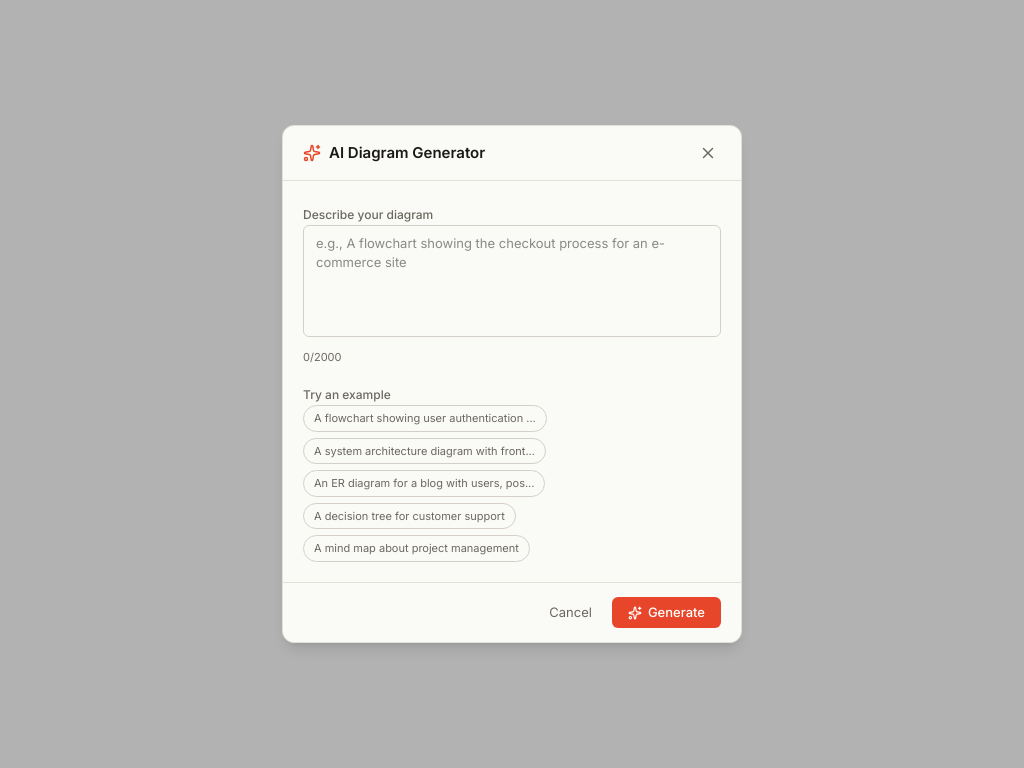
Test case: AIGenerateModal chrome › fills the prompt from an example and clears the previous error
This screenshot has width=1024, height=768.
Replace the text in the text box labelled "Describe your diagram" with "A simple architecture diagram" at (512, 281), box [303, 225, 721, 337]
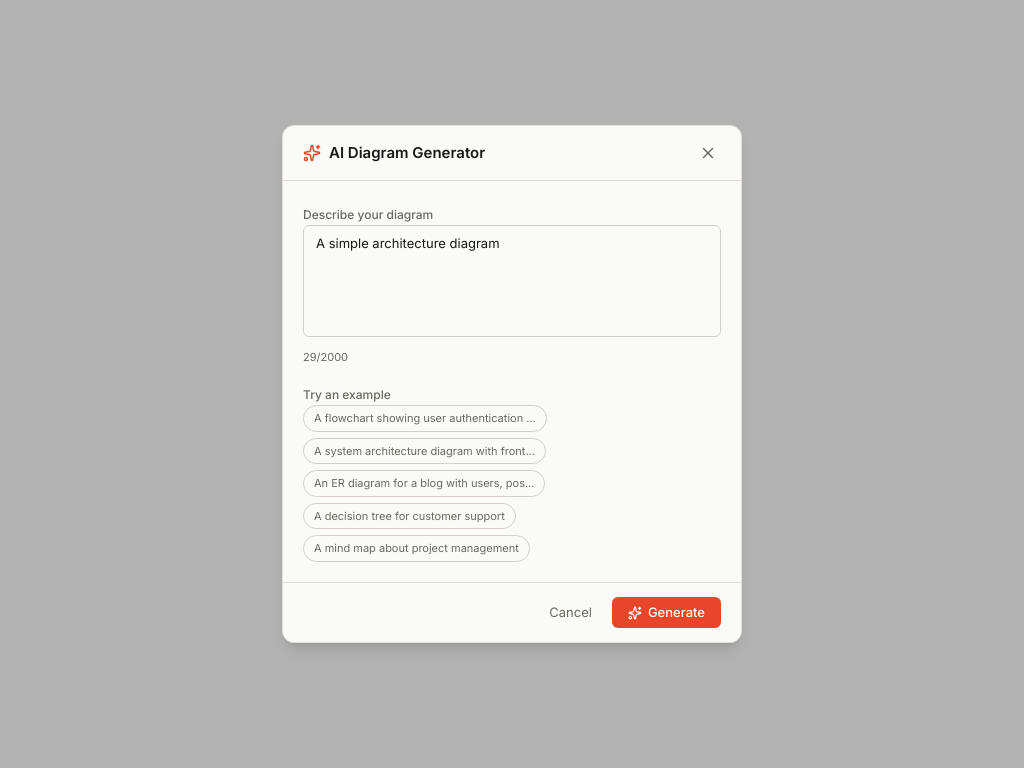
Click the button "Generate".
click(666, 613)  # box [612, 597, 721, 628]
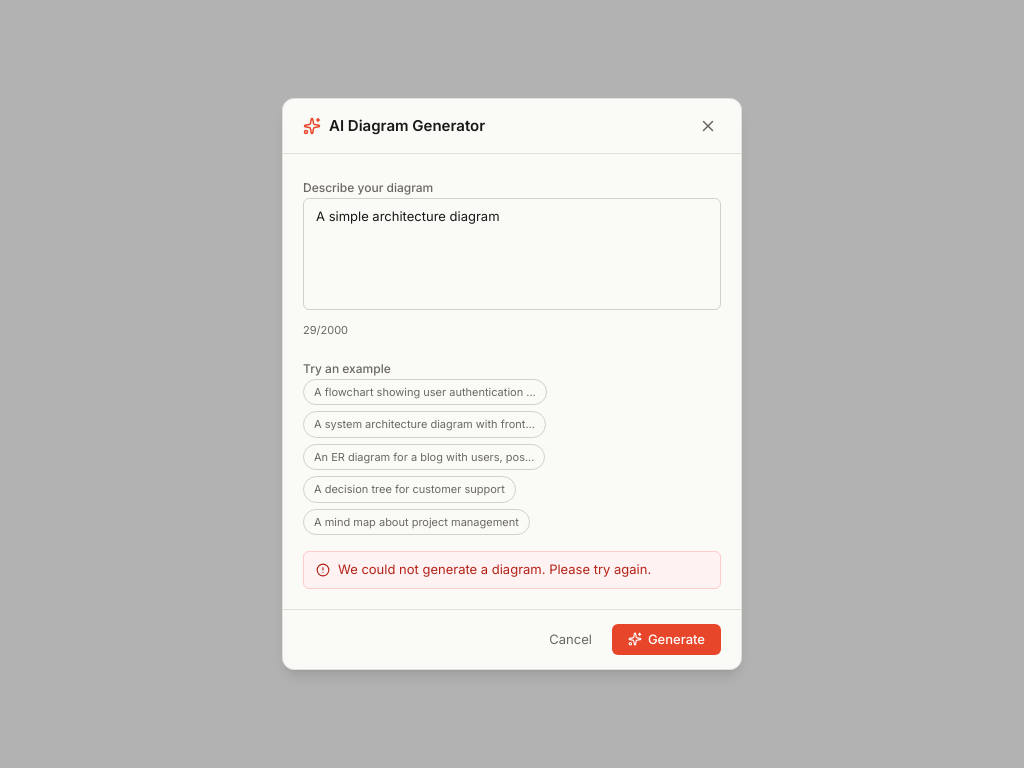
Expected: the message "We could not generate a diagram. Please try again." is shown, [303, 551, 721, 588]
Click the button "A decision tree for customer support".
click(409, 489)  # box [303, 476, 516, 502]
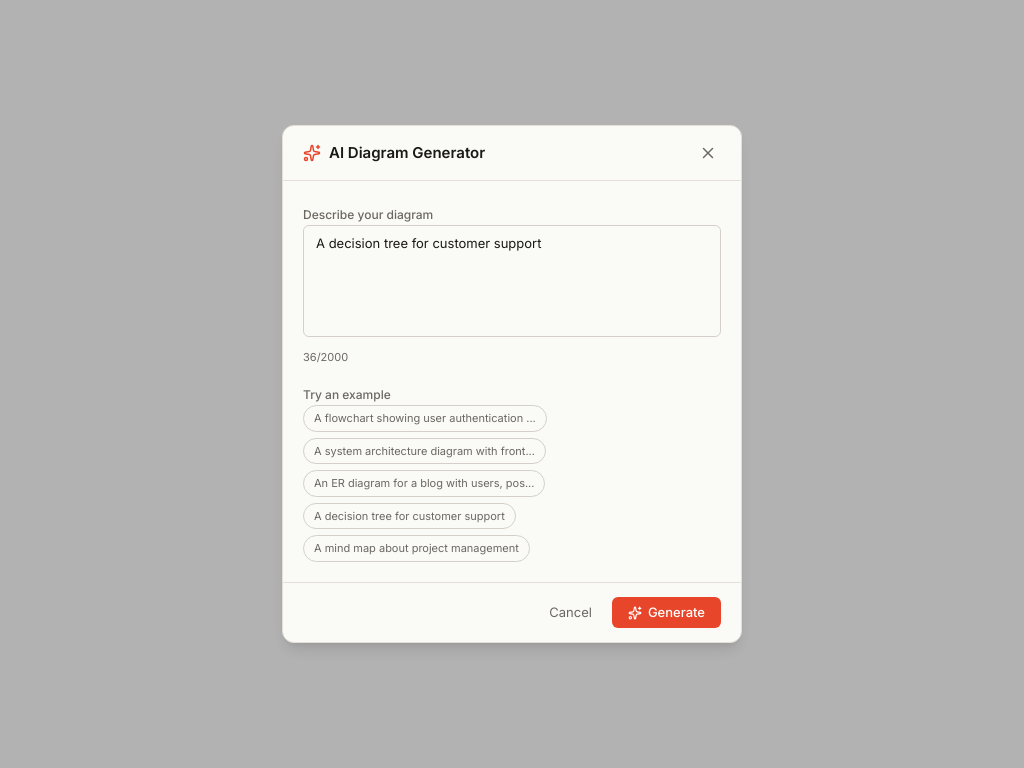
Expected: the button "Generate" is enabled, [612, 597, 721, 628]
Expected: the text box labelled "Describe your diagram" holds "A decision tree for customer support", [303, 225, 721, 337]
Expected: the message "We could not generate a diagram. Please try again." is gone
